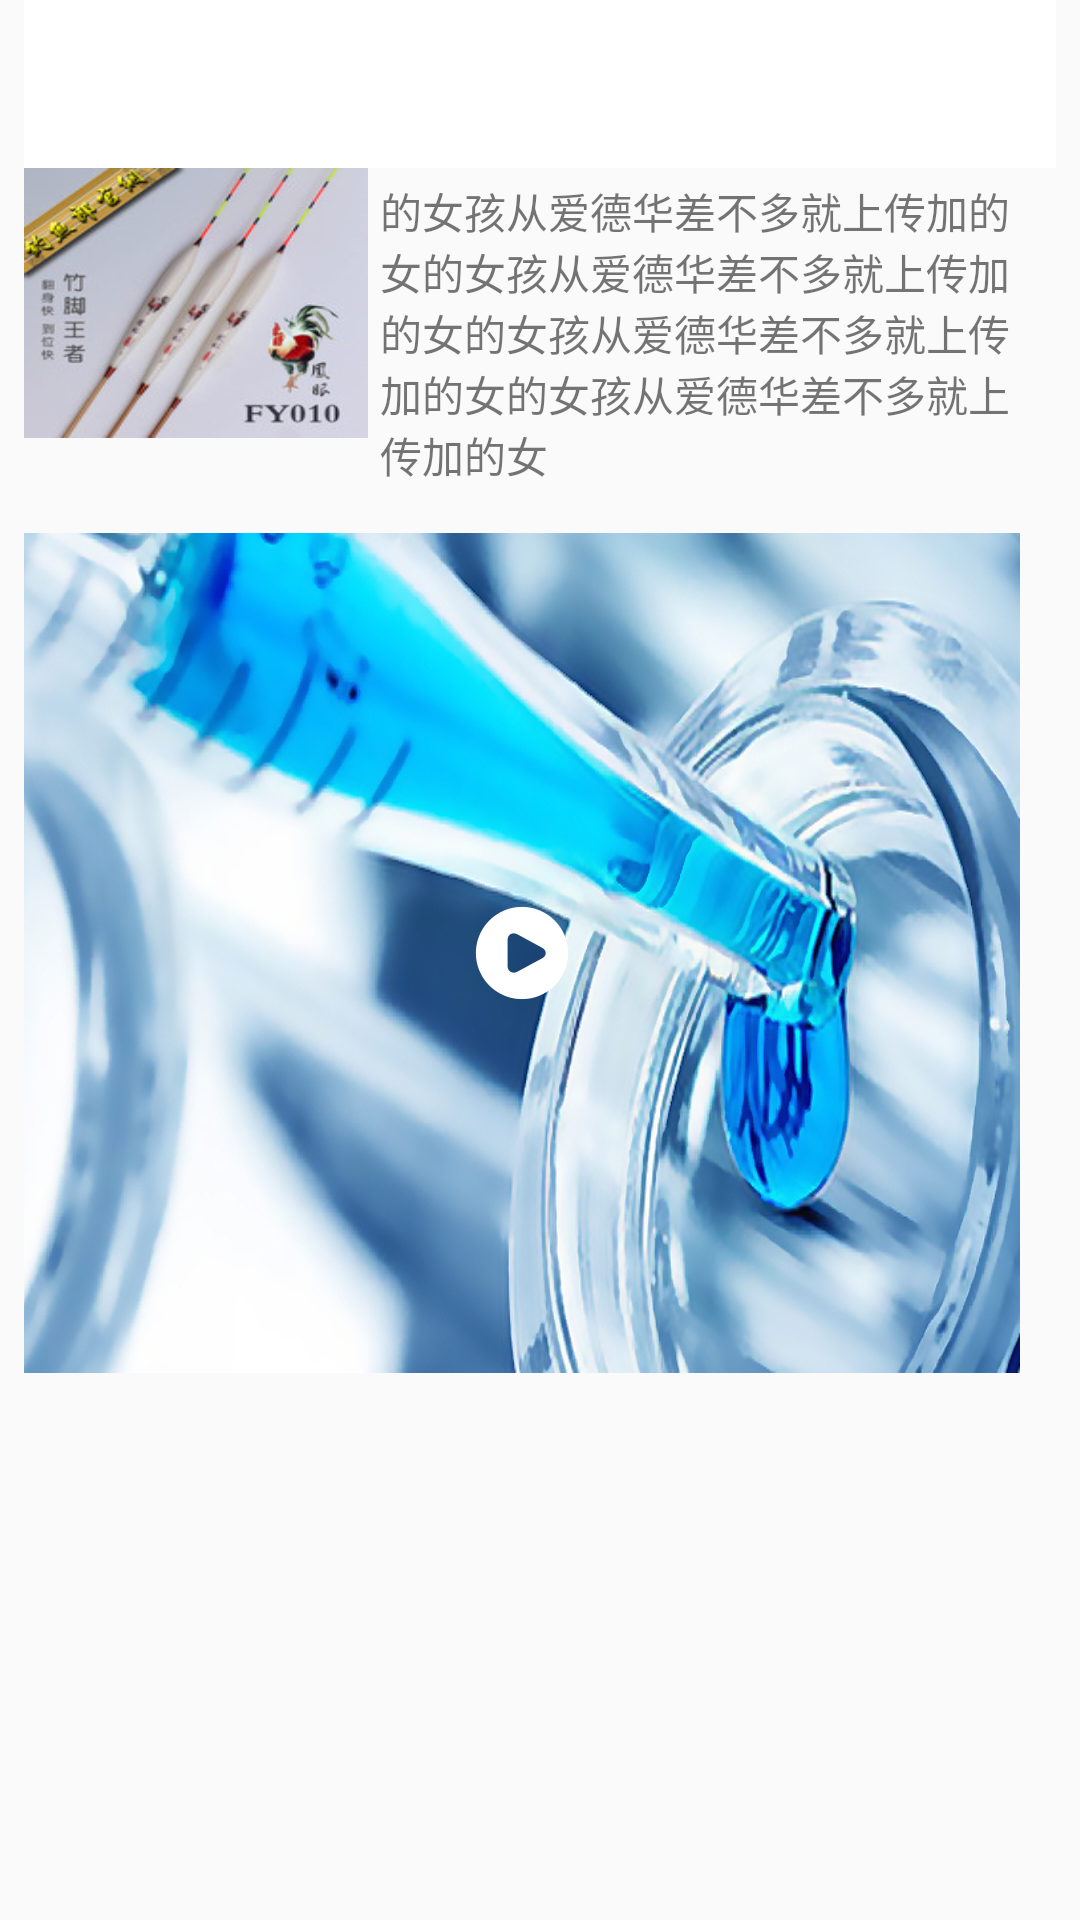

Named icons in this screenshot (1080 × 1920) and their bounding boxes, [x1=x1, y1=y1, x2=x2, y2=y2]:
product: [x1=24, y1=168, x2=368, y2=438]
